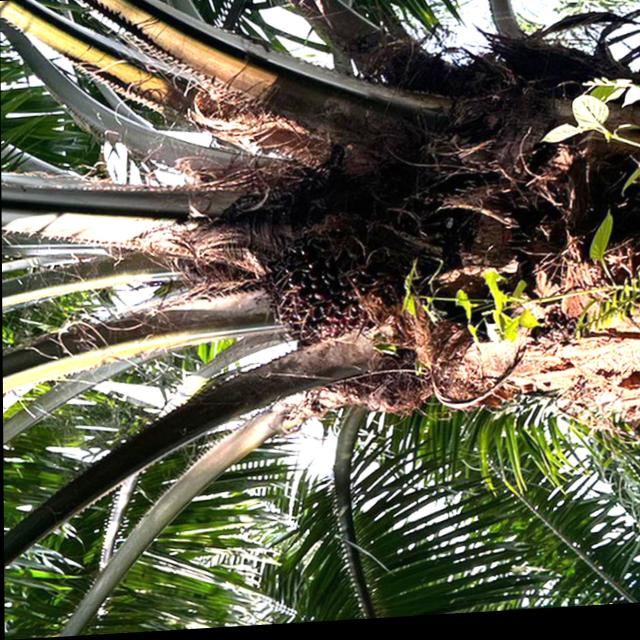unripe: (257, 221, 440, 360)
